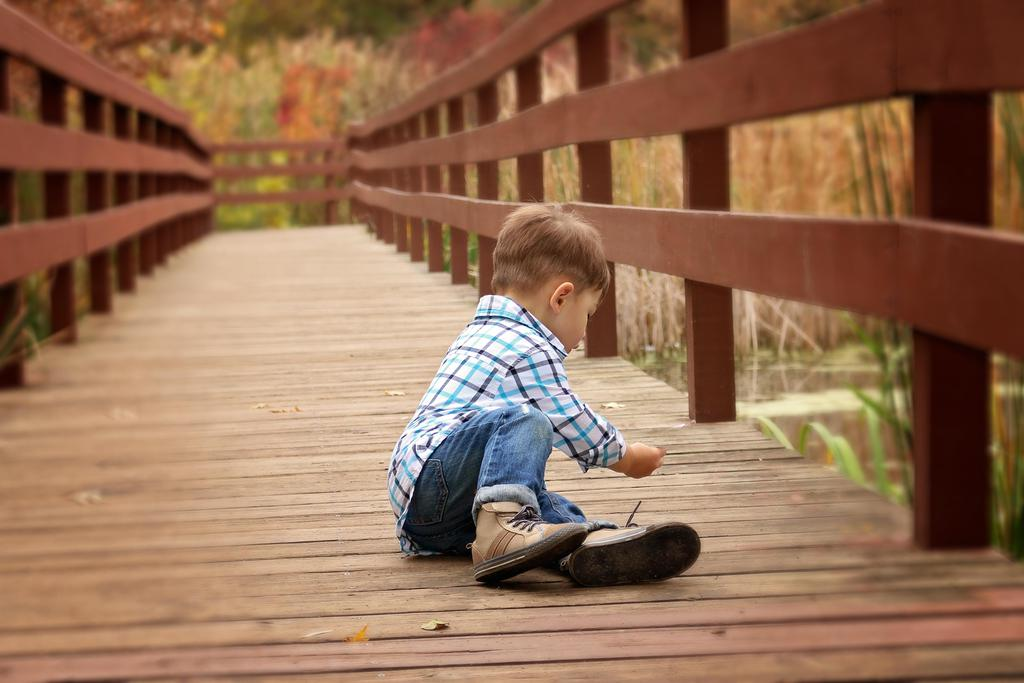child: (358, 191, 719, 605)
